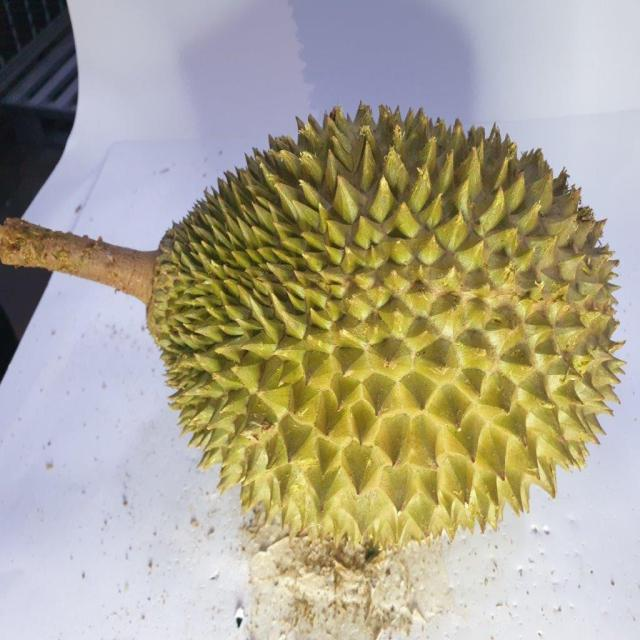immature: (147, 94, 628, 548)
